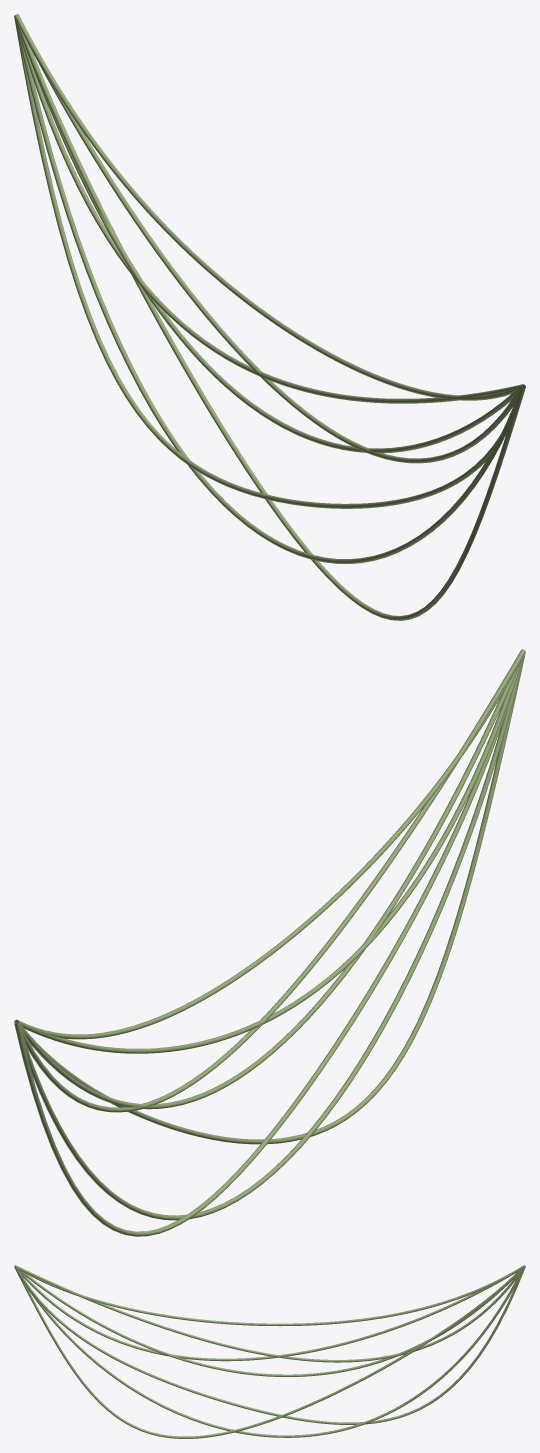
File: lines.fbx
3 views of the same model, one above another, from view 1: azimuth 30°, elevation 25°; view 2: azimuth 150°, elevation 25°; view 3: azimuth 270°, elevation 25° (orthographic). The views are drawn at different scales.
Parts seen in each view (by area): view 1: NurbsPath.006, NurbsPath.003, NurbsPath.004, NurbsPath.001, NurbsPath.002, NurbsPath, NurbsPath.005; view 2: NurbsPath.003, NurbsPath.004, NurbsPath.006, NurbsPath, NurbsPath.005, NurbsPath.001, NurbsPath.002; view 3: NurbsPath.004, NurbsPath.006, NurbsPath.003, NurbsPath, NurbsPath.001, NurbsPath.002, NurbsPath.005.
Part boxes in pixels (<box>): NurbsPath.006: <box>15,18,525,620</box>; NurbsPath.003: <box>15,19,520,563</box>; NurbsPath.004: <box>14,16,524,508</box>; NurbsPath.001: <box>17,22,520,463</box>; NurbsPath.002: <box>14,14,524,400</box>; NurbsPath: <box>15,19,525,403</box>; NurbsPath.005: <box>16,21,523,453</box>; NurbsPath.003: <box>14,653,525,1220</box>; NurbsPath.004: <box>14,700,509,1236</box>; NurbsPath.006: <box>19,652,525,1144</box>; NurbsPath: <box>15,649,525,1112</box>; NurbsPath.005: <box>14,654,524,1109</box>; NurbsPath.001: <box>15,654,524,1053</box>; NurbsPath.002: <box>14,653,524,1039</box>; NurbsPath.004: <box>14,1266,525,1424</box>; NurbsPath.006: <box>14,1266,525,1438</box>; NurbsPath.003: <box>27,1265,525,1437</box>; NurbsPath: <box>15,1265,524,1362</box>; NurbsPath.001: <box>17,1267,523,1361</box>; NurbsPath.002: <box>17,1265,524,1326</box>; NurbsPath.005: <box>16,1267,523,1376</box>.
Bounding box in the file's own units: 6.46 × 150 × 402.
